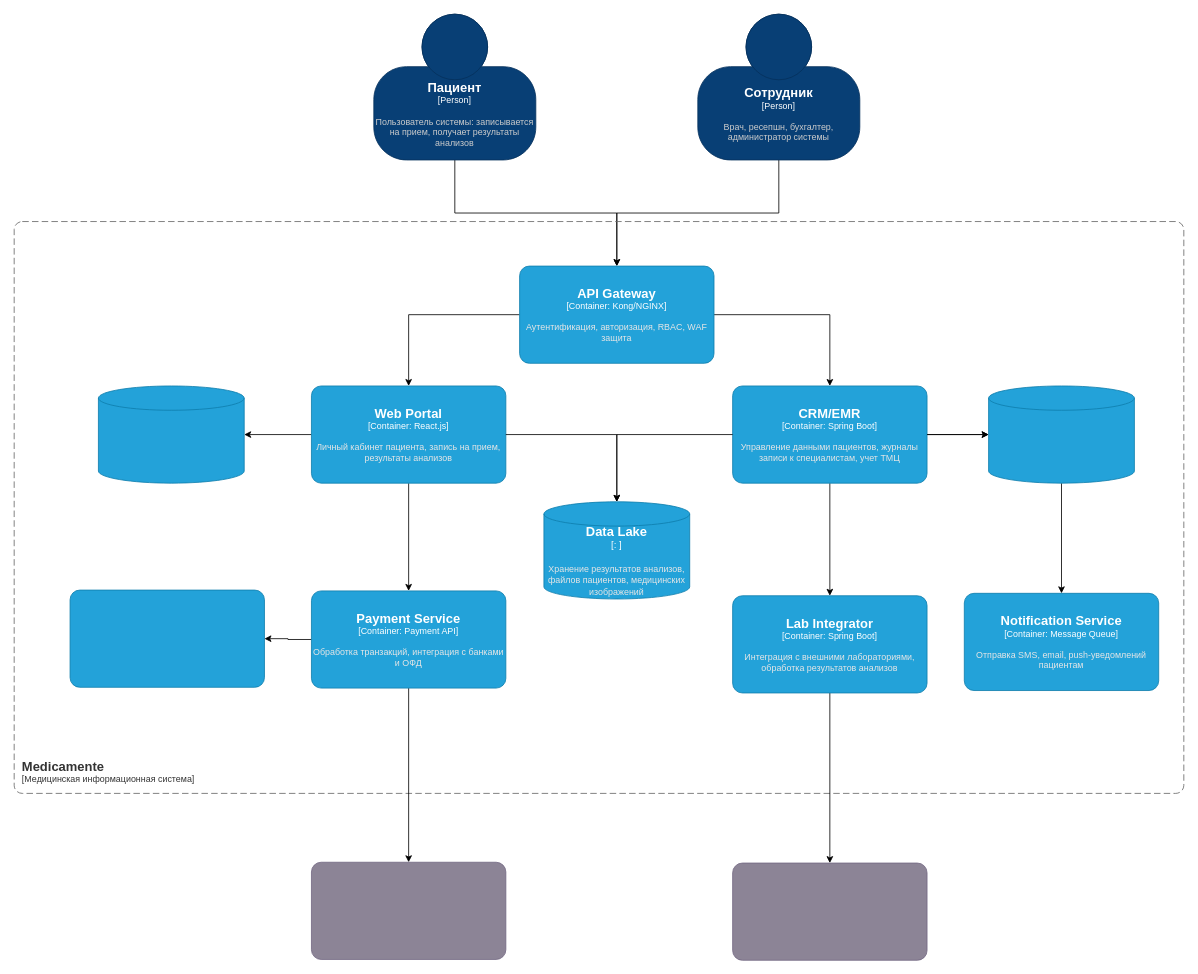
Image size: 1198x974. Some labels were removed from this diagram. Each missing label, with the centre of its shape:
1С:Бухгалтерия [Software System] Система учета и отчетности: (x=166, y=638)
Банк/ОФД [Software System] Банковская система и касса для обработки платежей: (x=408, y=910)
БД CRM/EMR [Container: PostgreSQL] База данных CRM и медицинских записей: (x=1061, y=434)
БД Web Portal [Container: PostgreSQL] База данных веб-портала: (x=171, y=434)
Лаборатория [Software System] Внешняя лаборатория для обработки анализов: (x=829, y=911)
